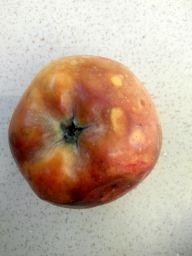Apple Rotten: (11, 52, 166, 212)
